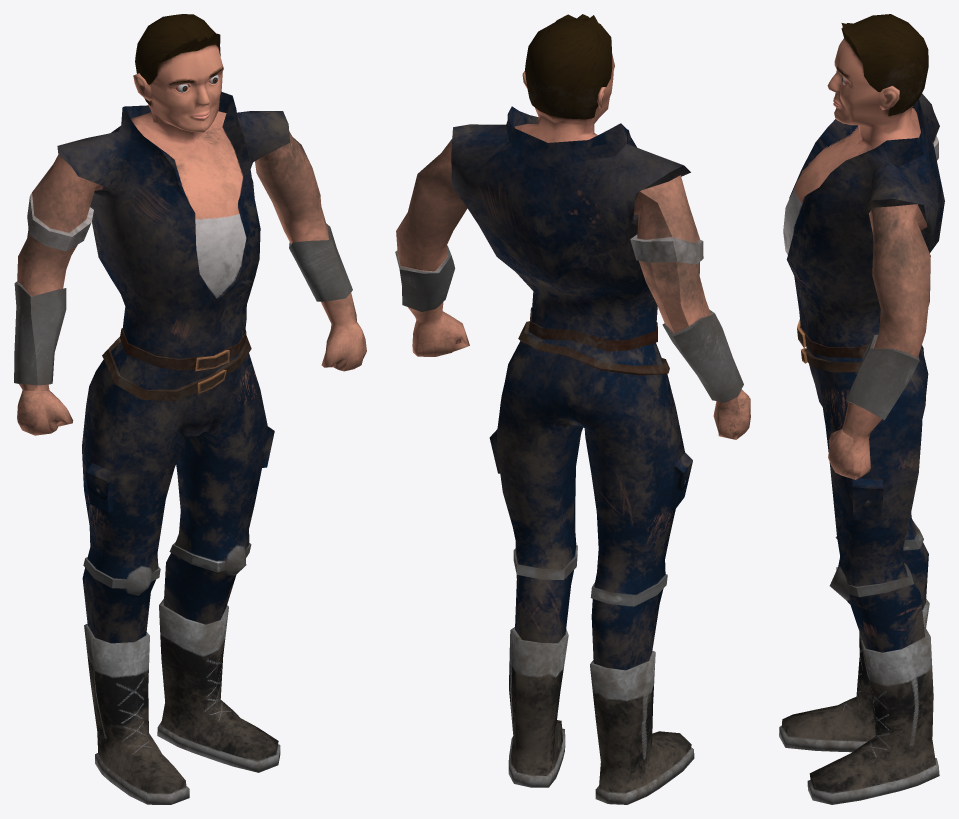
Rendered from Anim_interruptor_jugador.0038.obj.
3 views of the same model, side by side, from view 1: azimuth 30°, elevation 25°; view 2: azimuth 150°, elevation 25°; view 3: azimuth 270°, elevation 25° (orthographic).
Parts seen in each view (by area): view 1: polySurface1; view 2: polySurface1; view 3: polySurface1.
Part boxes in pixels (bbox=[...]): polySurface1: bbox=[14, 14, 366, 804]; polySurface1: bbox=[395, 14, 750, 804]; polySurface1: bbox=[779, 14, 944, 804].
Size of the model in its own units: 4.6 by 9.64 by 1.93.
